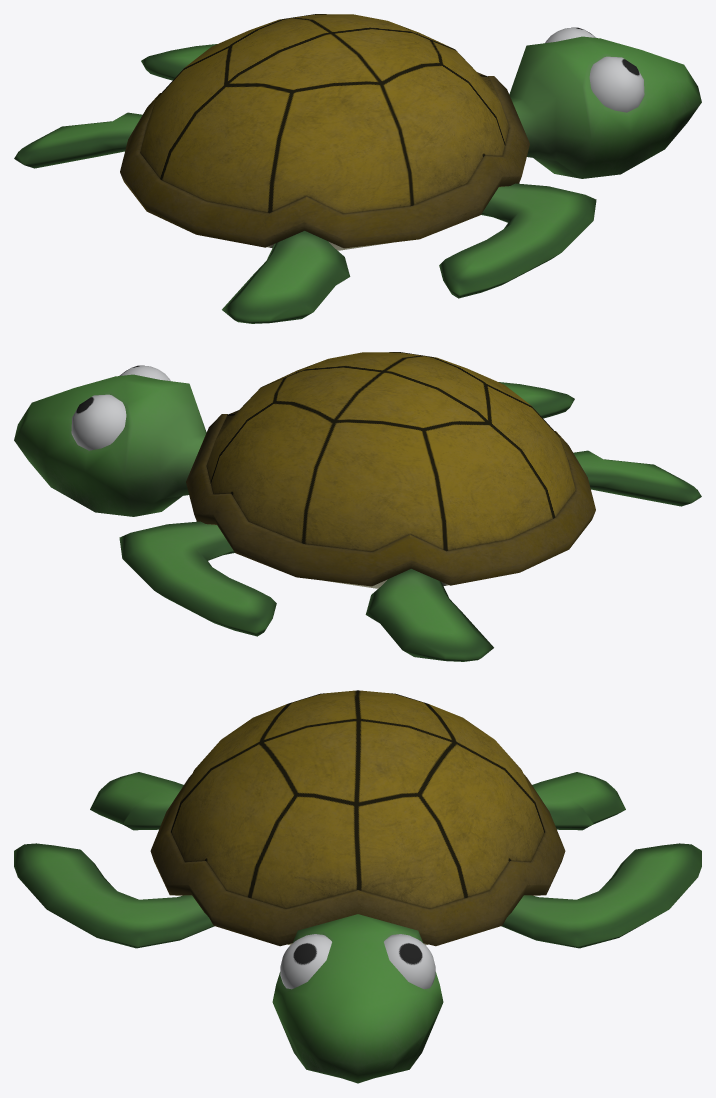
File: turtle.dae
3 views of the same model, one above another, from view 1: azimuth 30°, elevation 25°; view 2: azimuth 150°, elevation 25°; view 3: azimuth 270°, elevation 25° (orthographic). The views are drawn at different scales.
Visible parts, largest first — view 1: Turtle_ncl1_1; view 2: Turtle_ncl1_1; view 3: Turtle_ncl1_1.
Boxes of the visible parts, x1,y1,x2,y2 form: Turtle_ncl1_1: (14,14,701,323); Turtle_ncl1_1: (14,352,701,661); Turtle_ncl1_1: (14,690,701,1083).
Size of the model in its own units: 61.03 by 58.68 by 20.18.
1 material, 1 textured.
